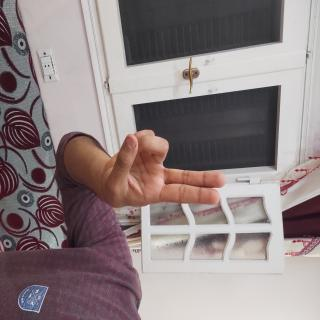TA: (93, 124, 169, 298)
